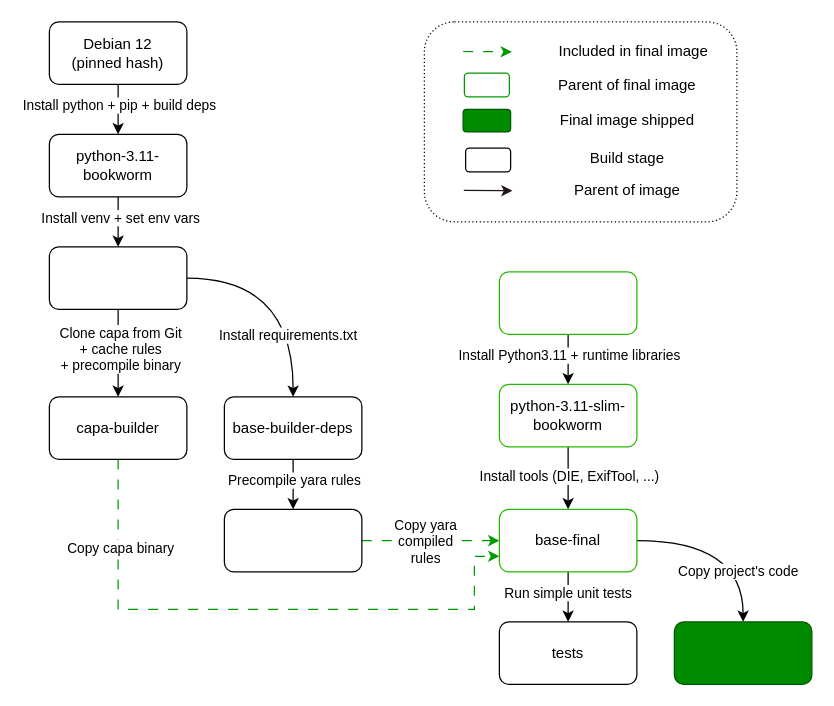
This 834x706 diagram has some shape labels left out. The centre of each missing label's shape, as x and y in pixels:
"base-builder" goes at point (117, 277).
"Debian 12 slim (pinned hash)" goes at point (567, 302).
"final" goes at point (742, 652).
"yara-builder" goes at point (292, 540).
